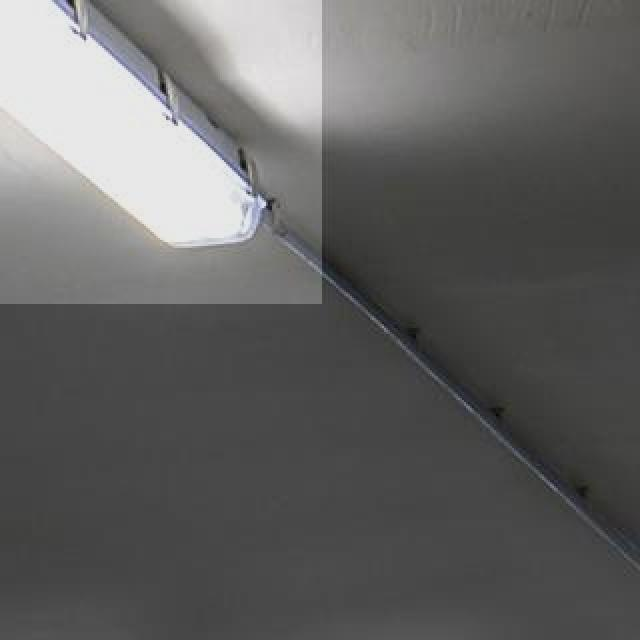fluorescent tube: (0, 0, 300, 282)
